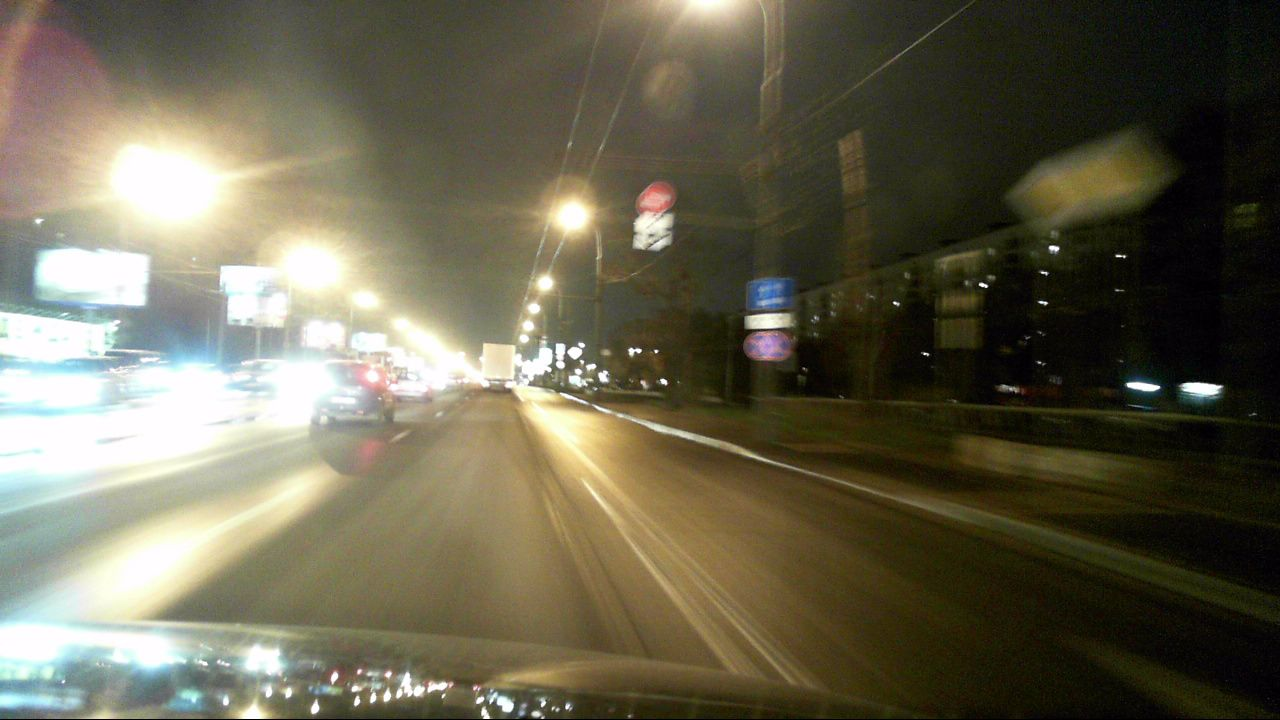No Parking: (759, 330, 792, 363)
